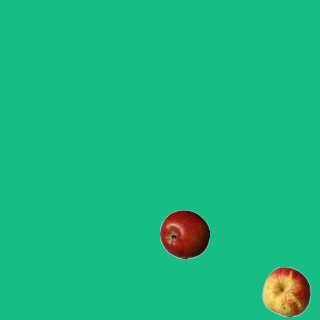Apple Braeburn: (159, 209, 209, 259)
Apple Red Yellow 1: (261, 266, 311, 316)
